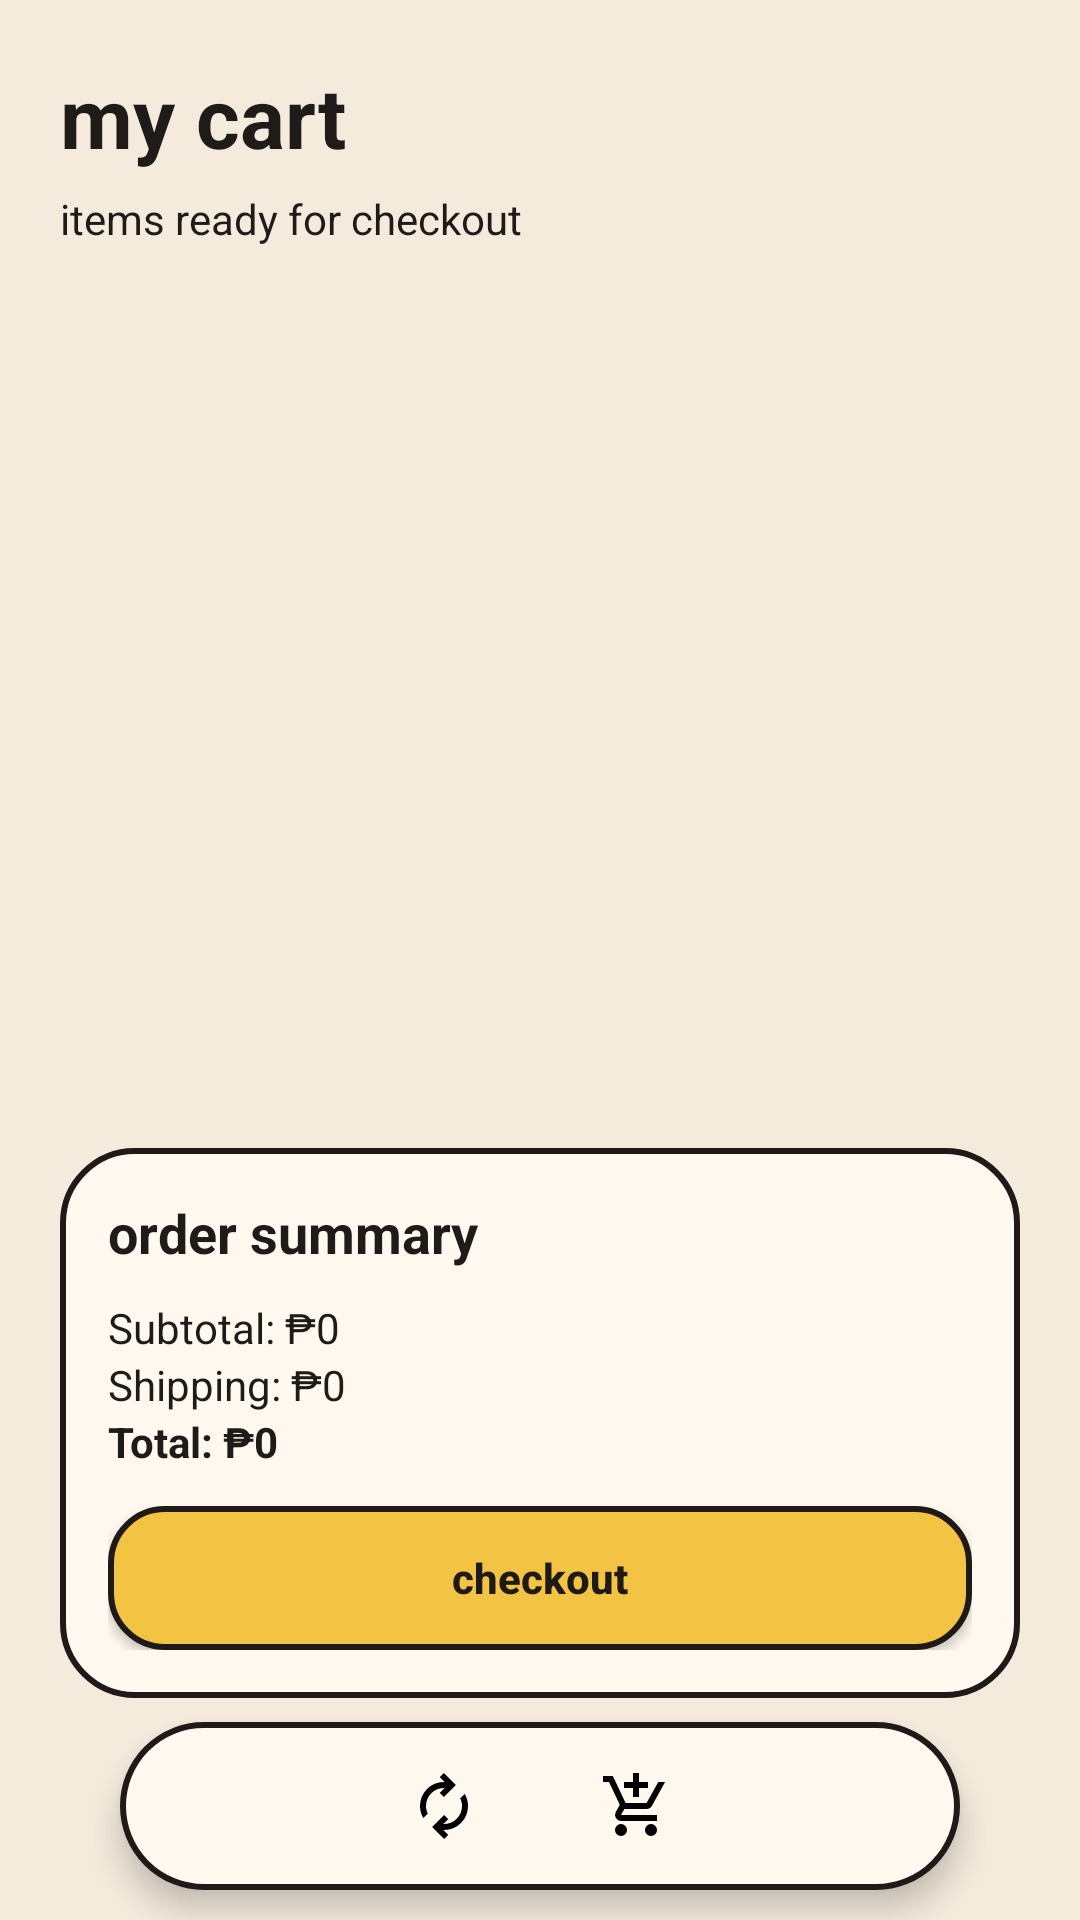

Icon click points for this 1080w x 1920h phone screenshot, format (x,y):
Cart: (634,1804)
Swap: (444,1806)
